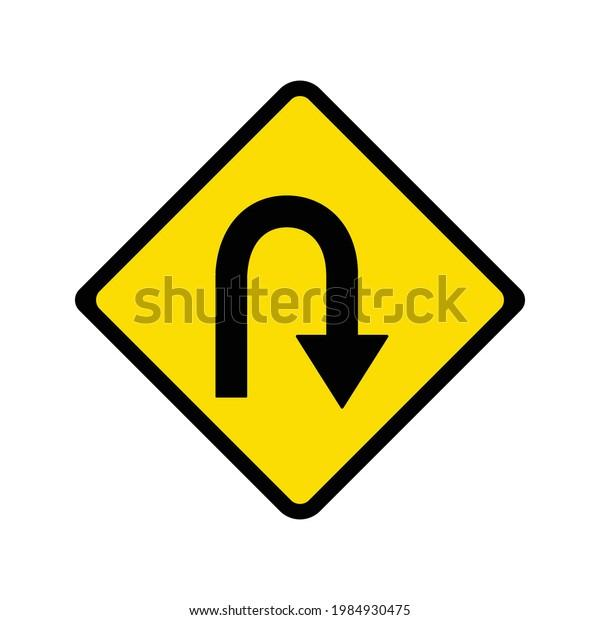Right Hair Pin Bend: (63, 47, 548, 561)
